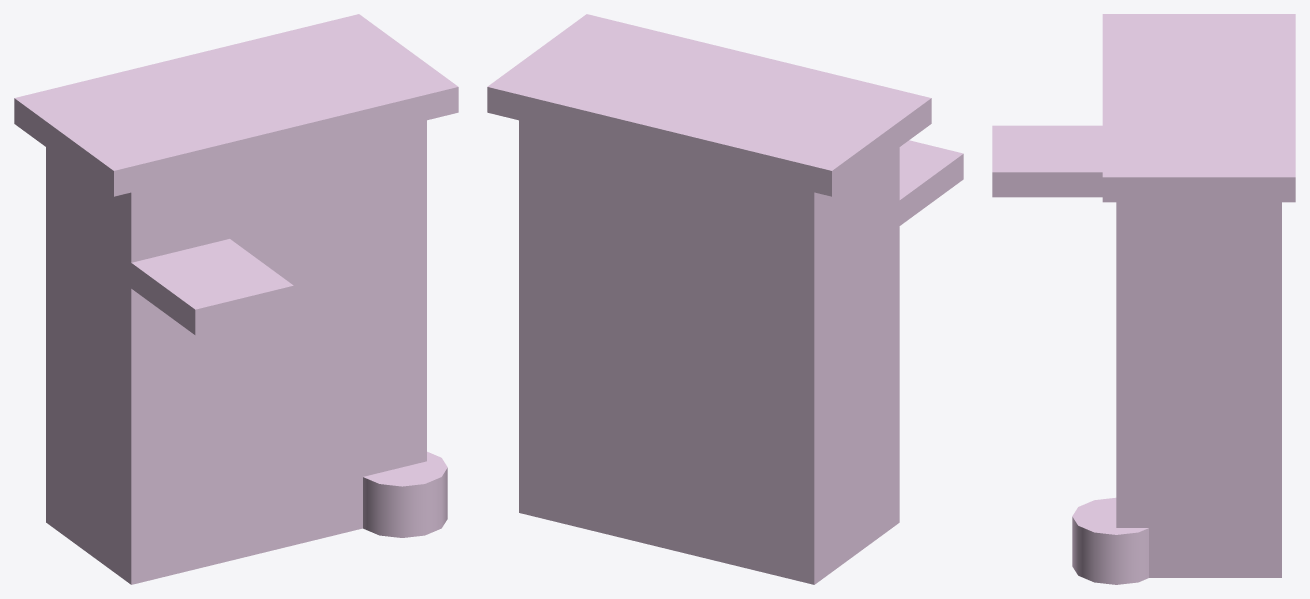
File: orbital_archive.gltf
3 renders of one model, left to right at view 1: azimuth 30°, elevation 25°; view 2: azimuth 150°, elevation 25°; view 3: azimuth 270°, elevation 25°, orthographic. The views are drawn at different scales.
Visible parts, largest first — view 1: orbital_archive; view 2: orbital_archive; view 3: orbital_archive.
Boxes of the visible parts, x1=… form: orbital_archive: x1=14, y1=14, x2=458, y2=584; orbital_archive: x1=487, y1=14, x2=963, y2=584; orbital_archive: x1=992, y1=14, x2=1295, y2=584.
Bounding box in the file's own units: 0.7 × 0.825 × 0.55.
